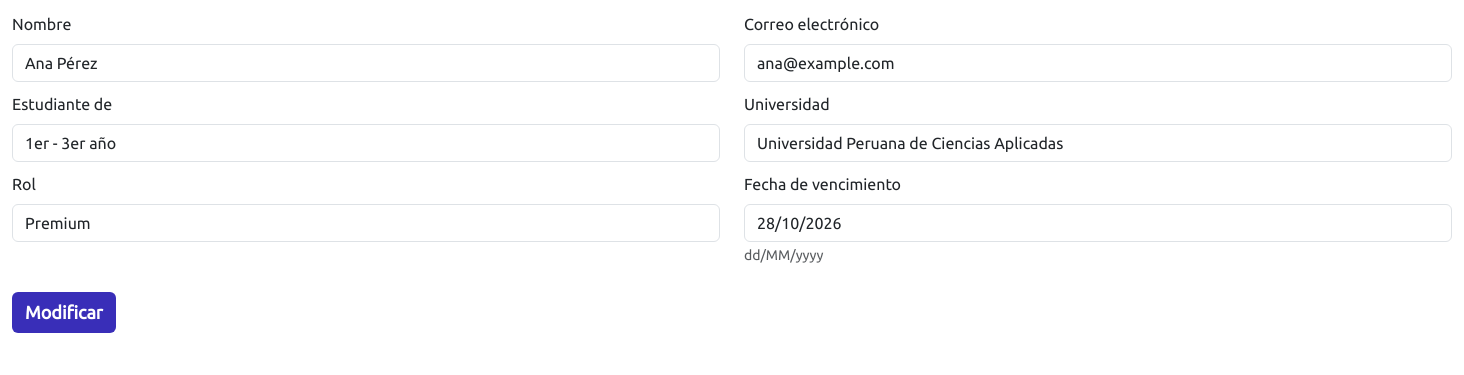
it: rejects invalid premium expiration  without saving
Clear the field labelled "Fecha de vencimiento" at (1098, 223), box [744, 204, 1452, 242]
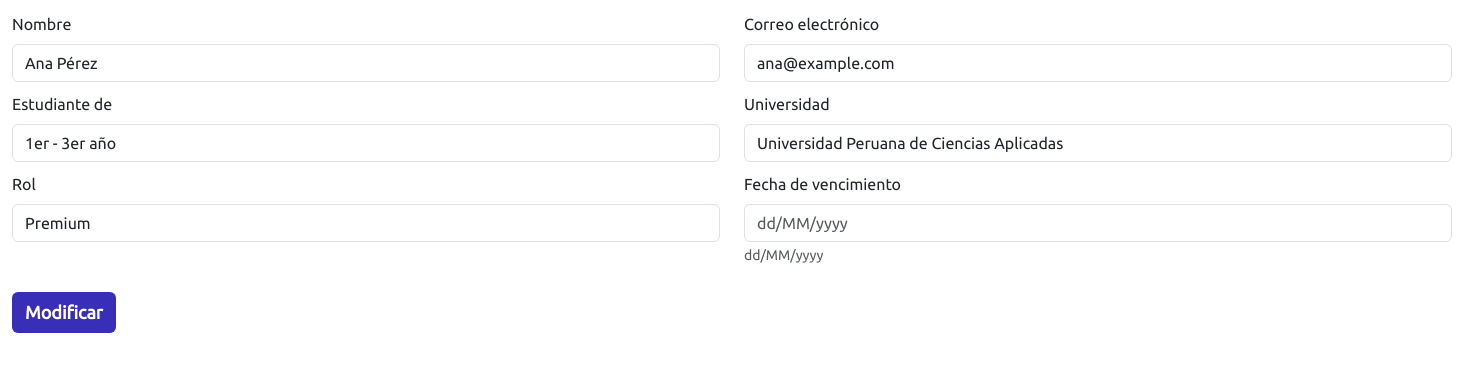
Submit the form
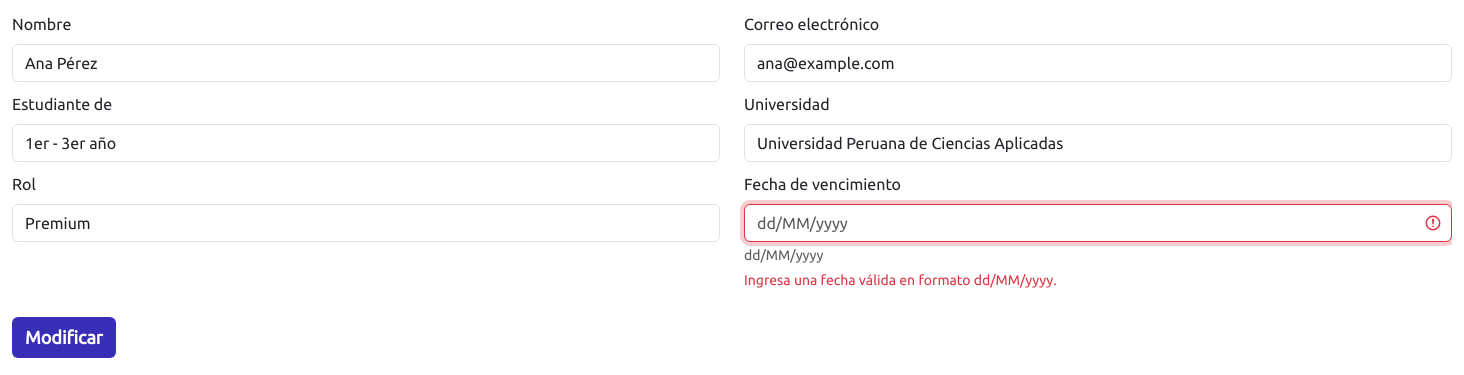
Now the text "Ingresa una fecha válida en formato dd/MM/yyyy." is shown, box [744, 272, 1057, 288]
